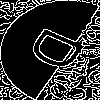D: (25, 25, 98, 79)
